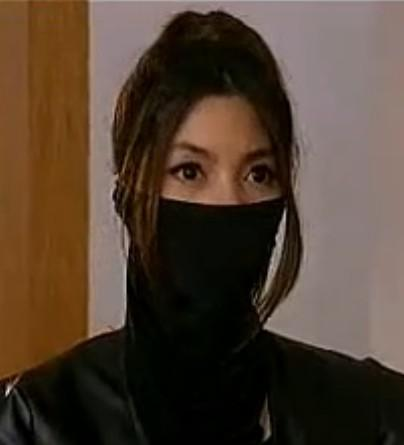OK: (148, 132, 289, 286)
